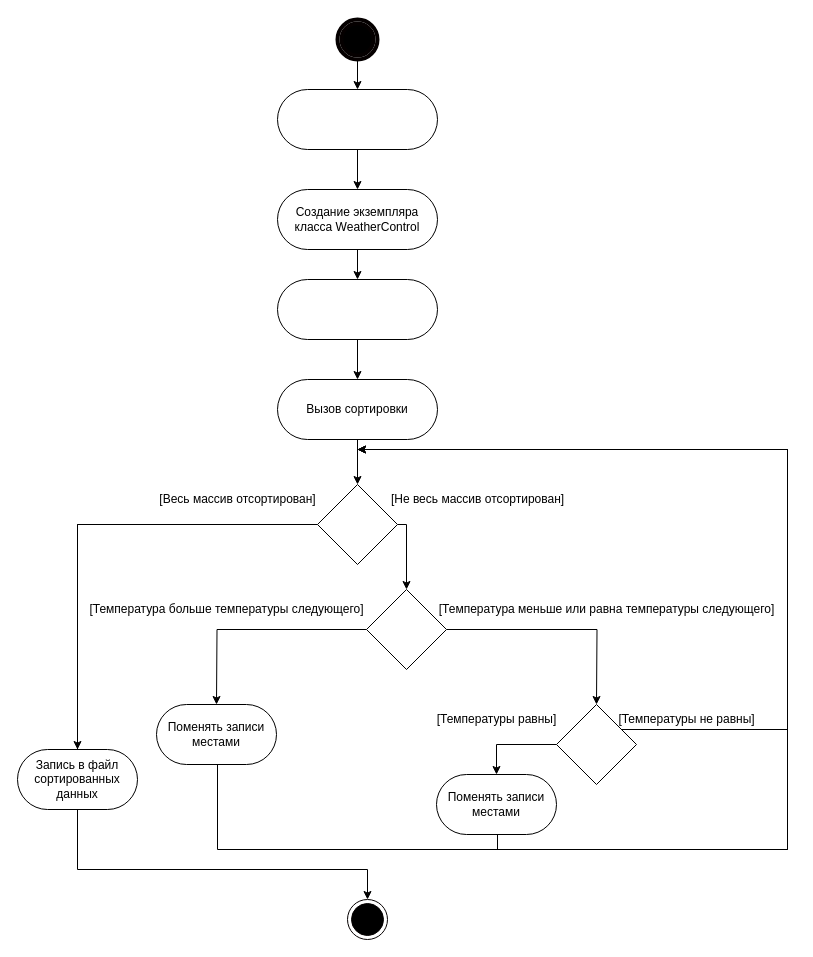
The diagram is 813 pixels wide and 957 high, and some of its shapes have lost their labels. The centre of each missing label's shape, as x and y in pixels:
Ввод данных в диалоговом режиме: pixel 357 119
Вывод несортированных данных на экран: pixel 357 309
